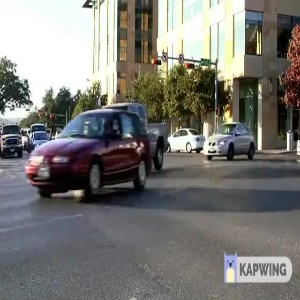car: (23, 109, 152, 206), (202, 119, 258, 167)
